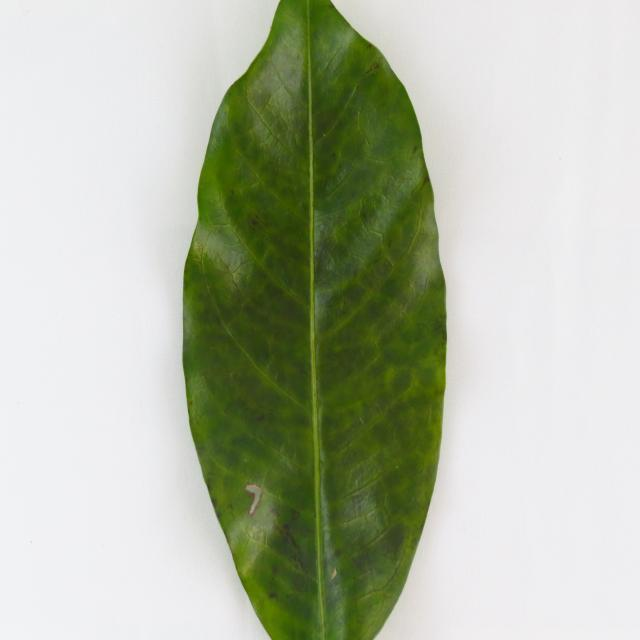DeficienciaNutricional-Magnesio: (182, 2, 446, 638)
